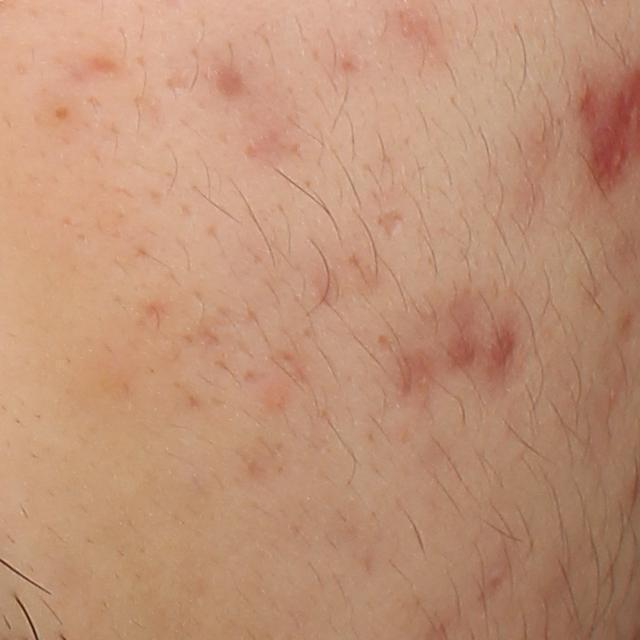atrophic_scar: (487, 319, 531, 403), (57, 54, 123, 104), (243, 128, 301, 163), (373, 207, 409, 241)
